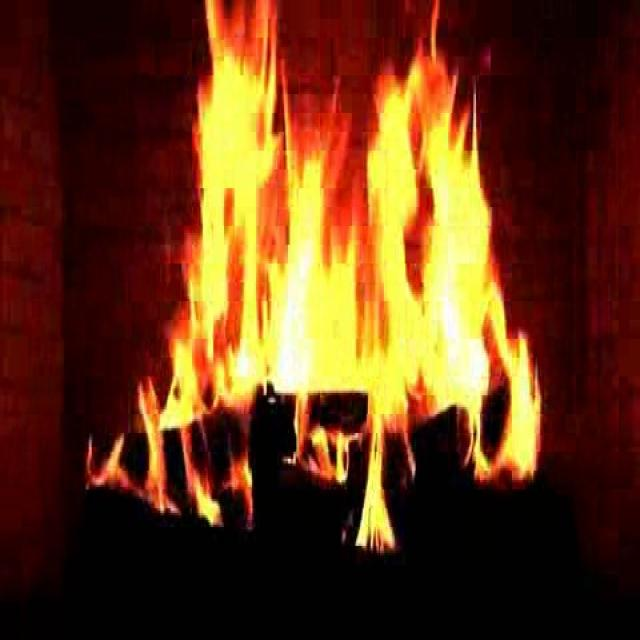fire: (172, 44, 534, 494)
